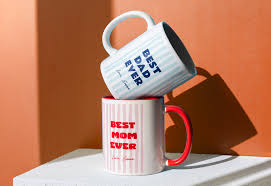mug: (77, 79, 220, 170), (80, 9, 208, 108)
